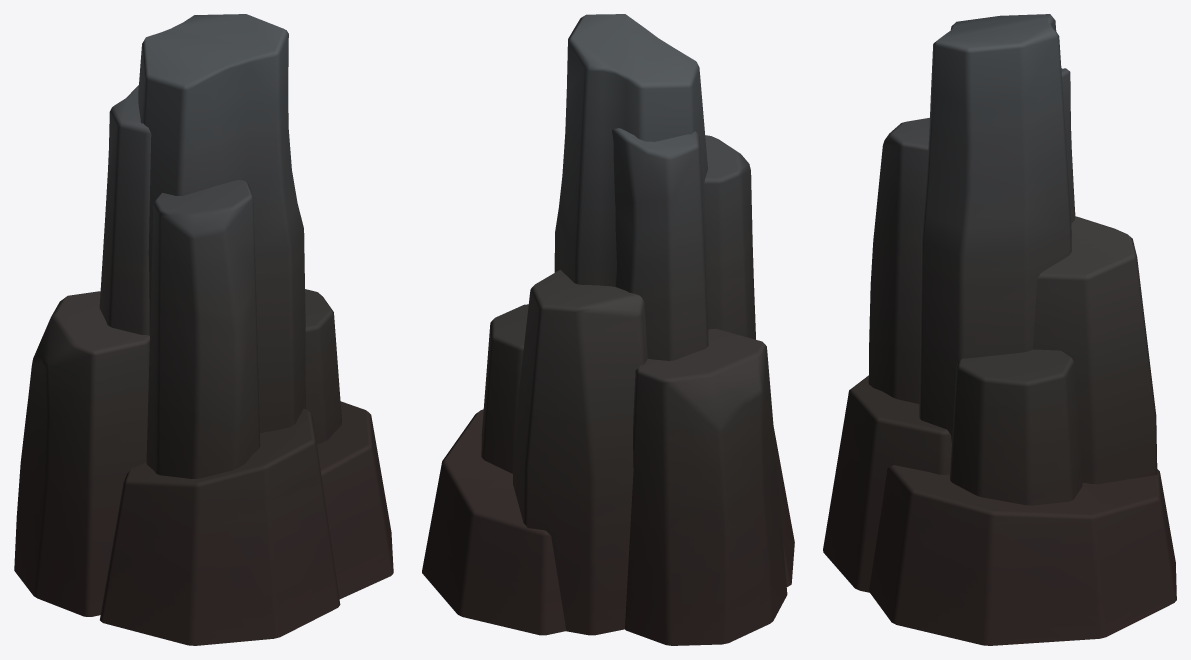
The model's file is inferno-rock-big-001.glb.
The picture shows the model from 3 angles, left to right: view 1: azimuth 30°, elevation 25°; view 2: azimuth 150°, elevation 25°; view 3: azimuth 270°, elevation 25°; orthographic projection.
Parts seen in each view (by area): view 1: RockBig_001; view 2: RockBig_001; view 3: RockBig_001.
Part boxes in pixels (left/top/right/bottom): RockBig_001: left=14, top=14, right=393, bottom=645; RockBig_001: left=422, top=14, right=794, bottom=645; RockBig_001: left=823, top=14, right=1176, bottom=645.
Size of the model in its own units: 22.77 by 35.03 by 20.71.
1 material, 1 textured.
